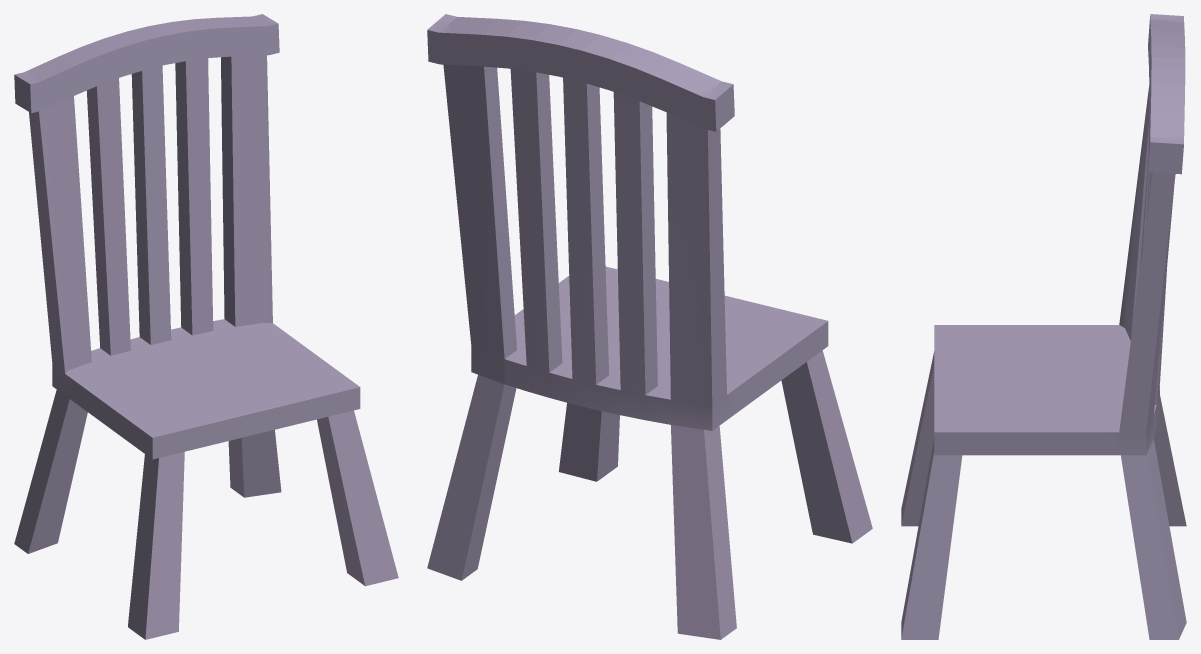
File: Chair.fbx
3 renders of one model, left to right at view 1: azimuth 30°, elevation 25°; view 2: azimuth 150°, elevation 25°; view 3: azimuth 270°, elevation 25°, orthographic. The views are drawn at different scales.
Parts seen in each view (by area): view 1: Chair; view 2: Chair; view 3: Chair.
Boxes of the visible parts, x1,y1,x2,y2 form: Chair: (14, 14, 398, 639); Chair: (427, 14, 872, 639); Chair: (901, 14, 1186, 639).
Size of the model in its own units: 103 by 188 by 95.1.
